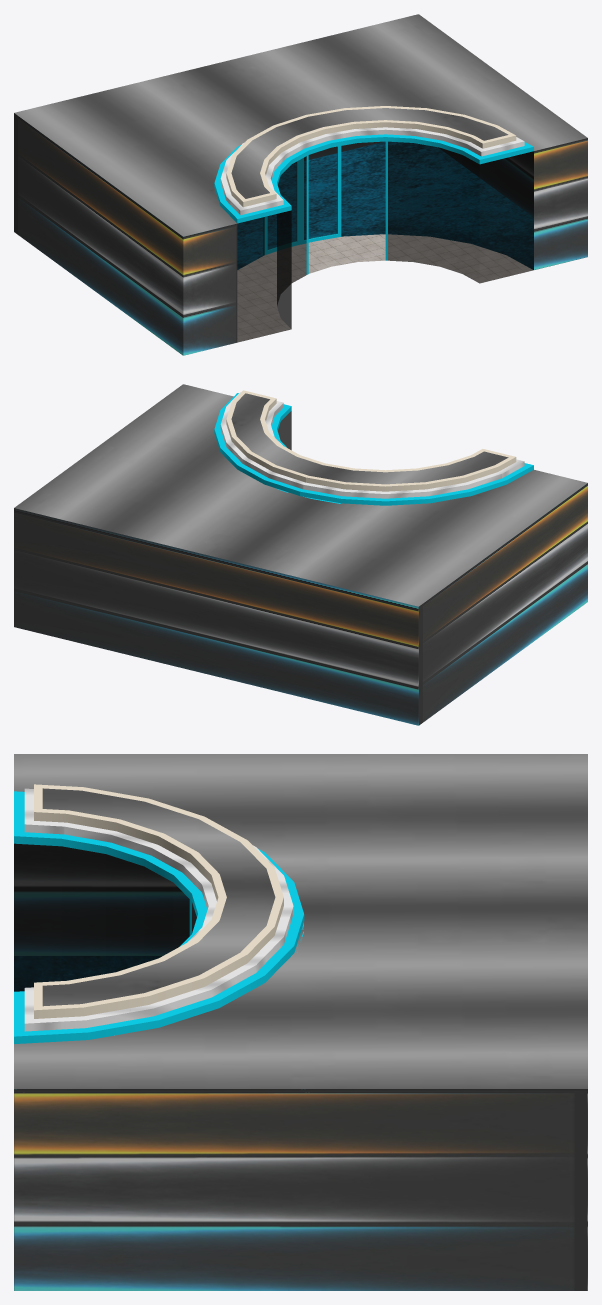
Rendered from room.glb.
3 renders of one model, top to bottom at view 1: azimuth 30°, elevation 25°; view 2: azimuth 150°, elevation 25°; view 3: azimuth 270°, elevation 25°, orthographic. The views are drawn at different scales.
Parts seen in each view (by area): view 1: Material2 (×6), Material3 (×2); view 2: Material2 (×4), Material3; view 3: Material2 (×6), Material3.
Part boxes in pixels (<box>): Material2 (×6): <box>14,106,587,355</box>; Material3 (×2): <box>14,14,587,342</box>; Material2 (×4): <box>14,390,587,725</box>; Material3: <box>14,384,587,606</box>; Material2 (×6): <box>14,784,587,1290</box>; Material3: <box>14,754,587,1088</box>.
Size of the model in its own units: 618 by 195 by 448.
10 materials, 6 textured.
